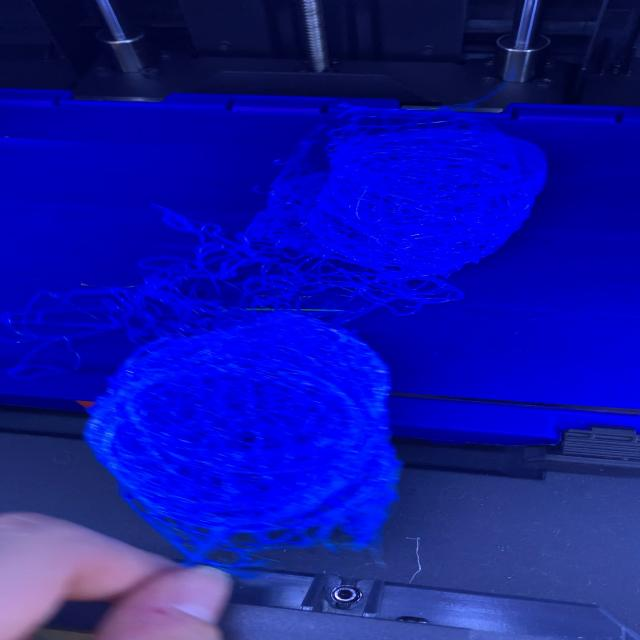spaghetti: (0, 74, 613, 578)
